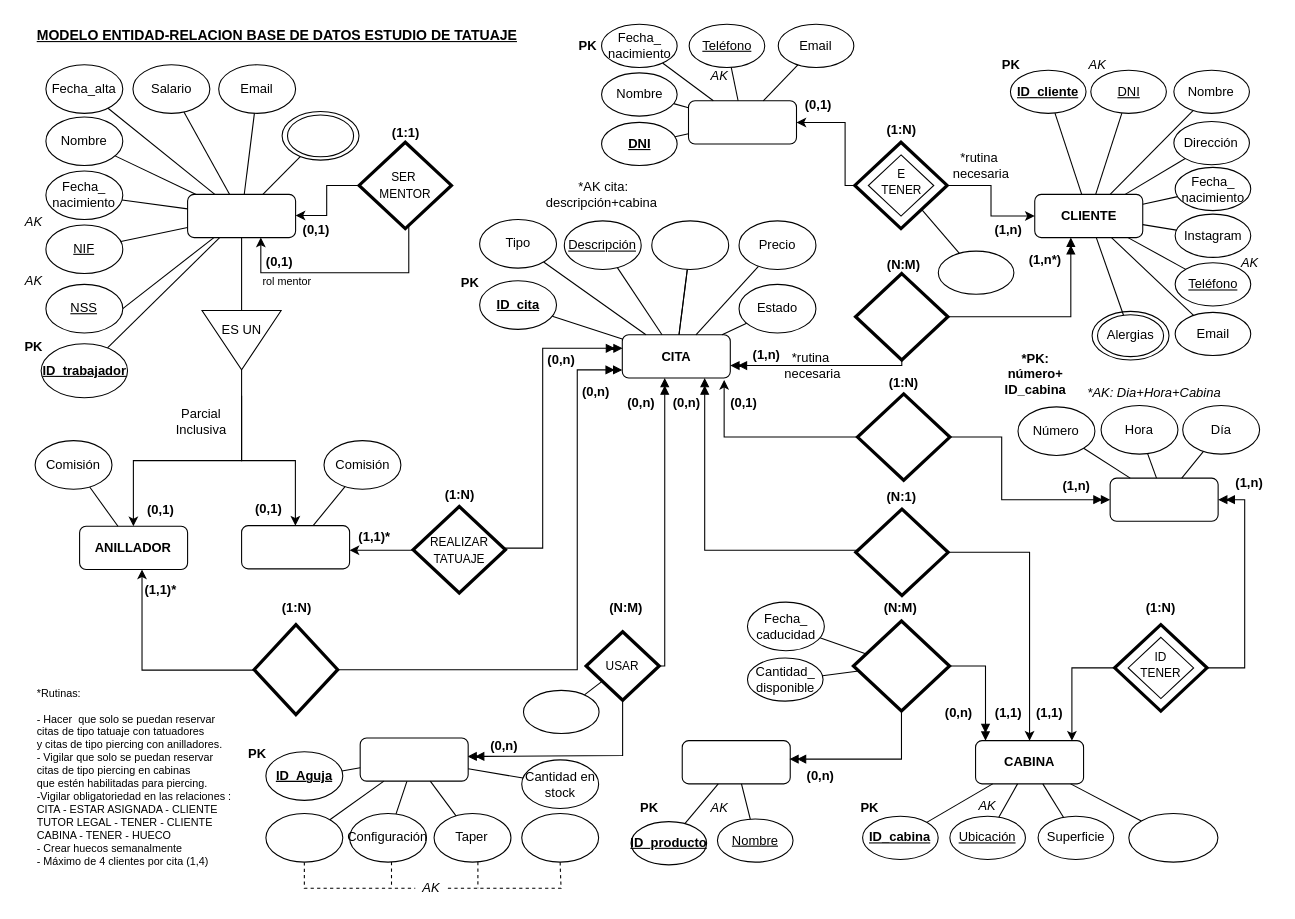
Image size: 1295x919. Some labels were removed from this diagram. Here are the shapes that lost their labels. From the top down, the centre of each, then its label:
the point at 320,135: Teléfonos
the point at 741,122: TUTOR LEGAL
the point at 241,215: TRABAJADOR
the point at 690,244: Señal
the point at 975,272: Parentesco
the point at 901,316: ESTAR ASIGNADA
the point at 903,436: TENER DISPONIBLE
the point at 1163,499: HUECO
the point at 295,547: TATUADOR
the point at 901,552: LLEVAR A CABO EN
the point at 295,669: REALIZAR PIERCING
the point at 901,665: TENER EN STOCK
the point at 560,711: Cantidad_ usada
the point at 413,759: AGUJA
the point at 735,762: PRODUCTO
the point at 304,837: Numero_ agujas
the point at 560,837: Diámetro
the point at 1173,837: Puede Hacer Piercing
